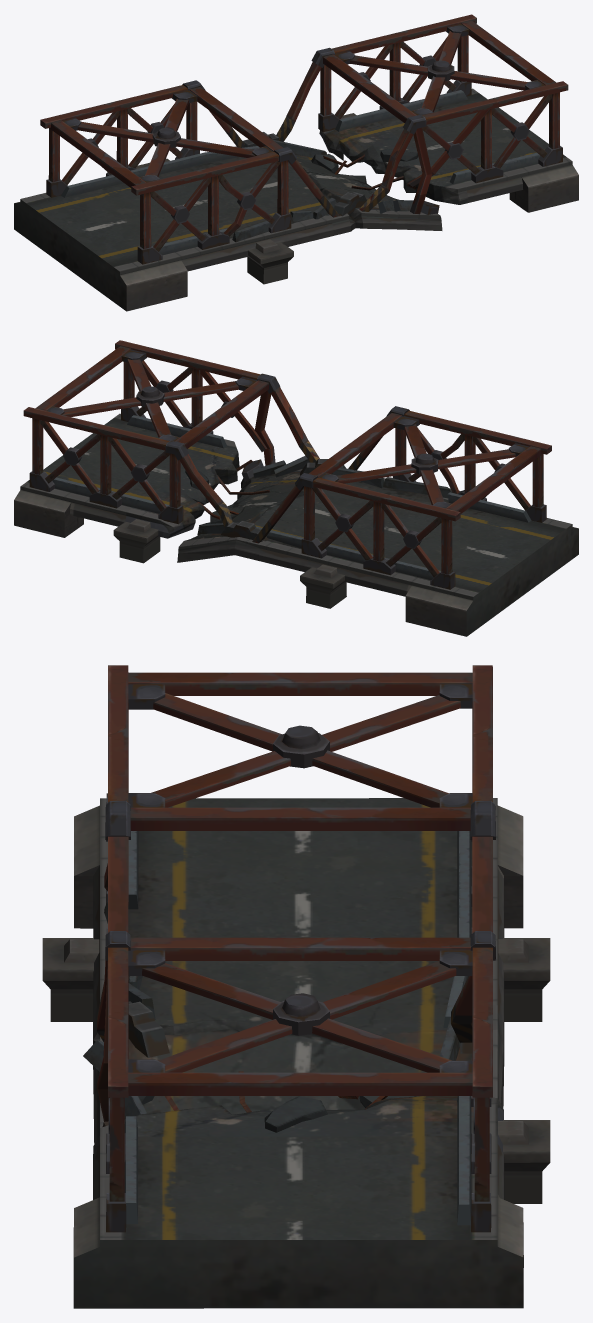
Rendered from WMBridge2.FBX.
3 renders of one model, top to bottom at view 1: azimuth 30°, elevation 25°; view 2: azimuth 150°, elevation 25°; view 3: azimuth 270°, elevation 25°, orthographic. The views are drawn at different scales.
Visible parts, largest first — view 1: qiao; view 2: qiao; view 3: qiao.
Boxes of the visible parts, <box> form: qiao: <box>14,14,578,311</box>; qiao: <box>14,340,578,636</box>; qiao: <box>42,665,550,1308</box>.
Bounding box in the file's own units: 2.22 × 0.5532 × 1.08.
1 material, 1 textured.
